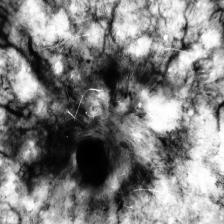Benign Marking or Mole: (63, 66, 140, 199)
